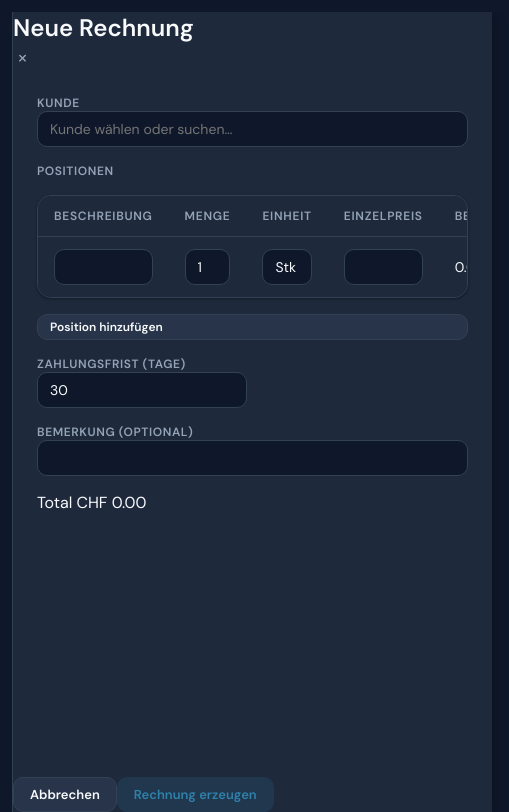
FreeInvoiceDialog › sendet nicht ohne Kunde
The width and height of the screenshot is (509, 812).
Step 1. Click the button "Rechnung erzeugen" → click(195, 794), box [117,777,274,811]
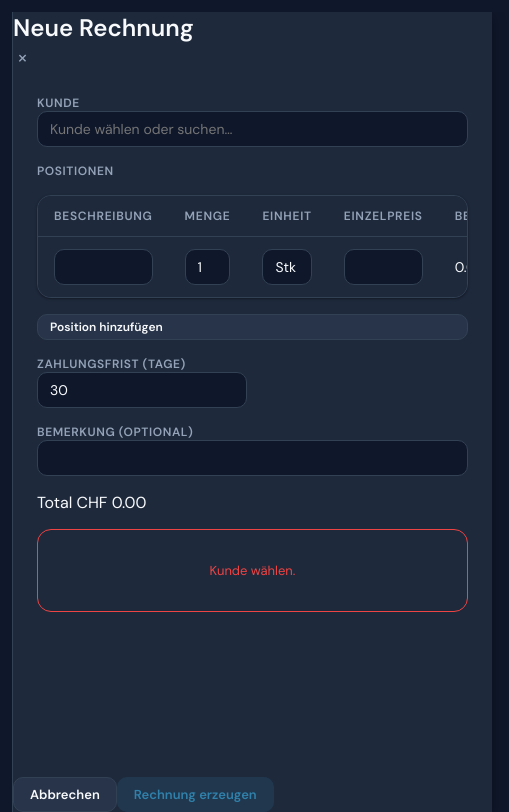
Result: the text "Kunde wählen." is shown at [37,529,468,612]
